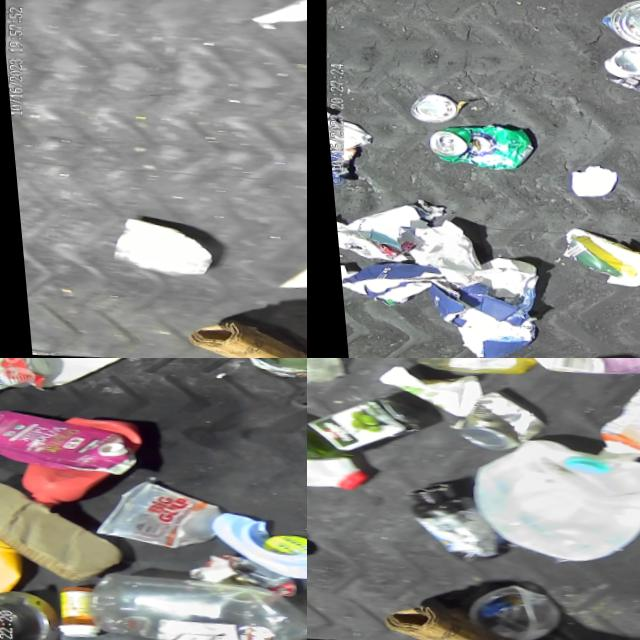can: (433, 399, 551, 457), (417, 119, 530, 176), (180, 550, 295, 603), (593, 39, 640, 109), (593, 0, 640, 54), (0, 358, 54, 398), (239, 358, 307, 386), (402, 91, 454, 125)
milk_jug: (456, 445, 640, 576), (307, 389, 369, 499)
non_white_jug: (10, 409, 148, 518)
